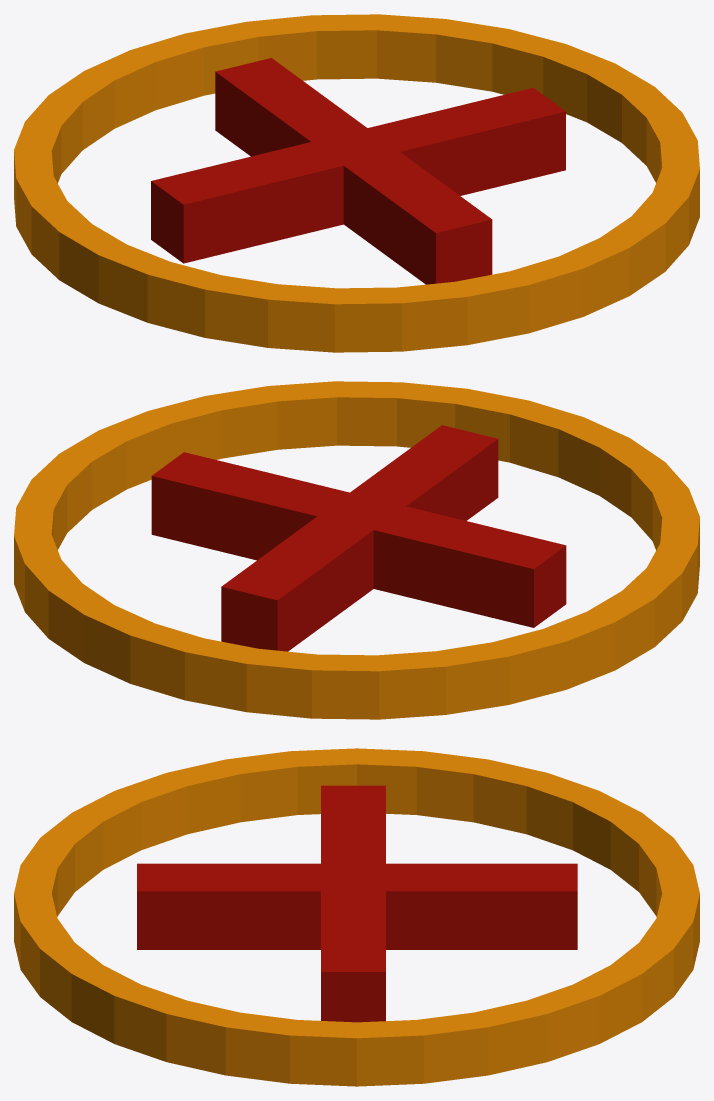
The model's file is Cross-red-yellow.fbx.
3 views of the same model, one above another, from view 1: azimuth 30°, elevation 25°; view 2: azimuth 150°, elevation 25°; view 3: azimuth 270°, elevation 25° (orthographic).
Visible parts, largest first — view 1: Circle, Cube; view 2: Circle, Cube; view 3: Circle, Cube.
Boxes of the visible parts, left/top/right/bottom form: Circle: left=14, top=14, right=699, bottom=352; Cube: left=151, top=58, right=565, bottom=284; Circle: left=14, top=381, right=699, bottom=719; Cube: left=151, top=425, right=566, bottom=651; Circle: left=14, top=748, right=699, bottom=1086; Cube: left=137, top=785, right=577, bottom=1022.
Size of the model in its own units: 200 by 20.15 by 200.
